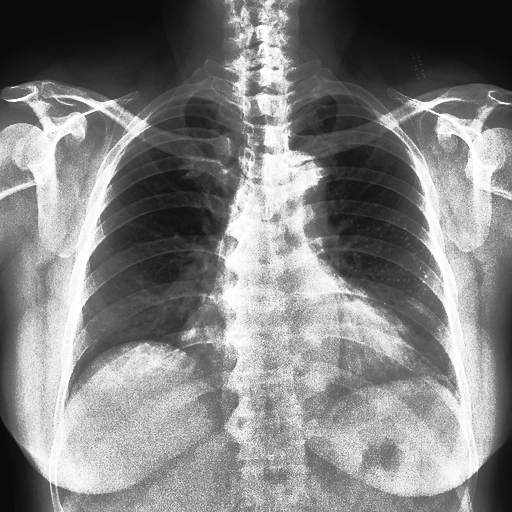Calcification: (299, 95, 366, 107)
Consolidation: (275, 151, 326, 223)
Nodule/Mass: (183, 312, 421, 381)
